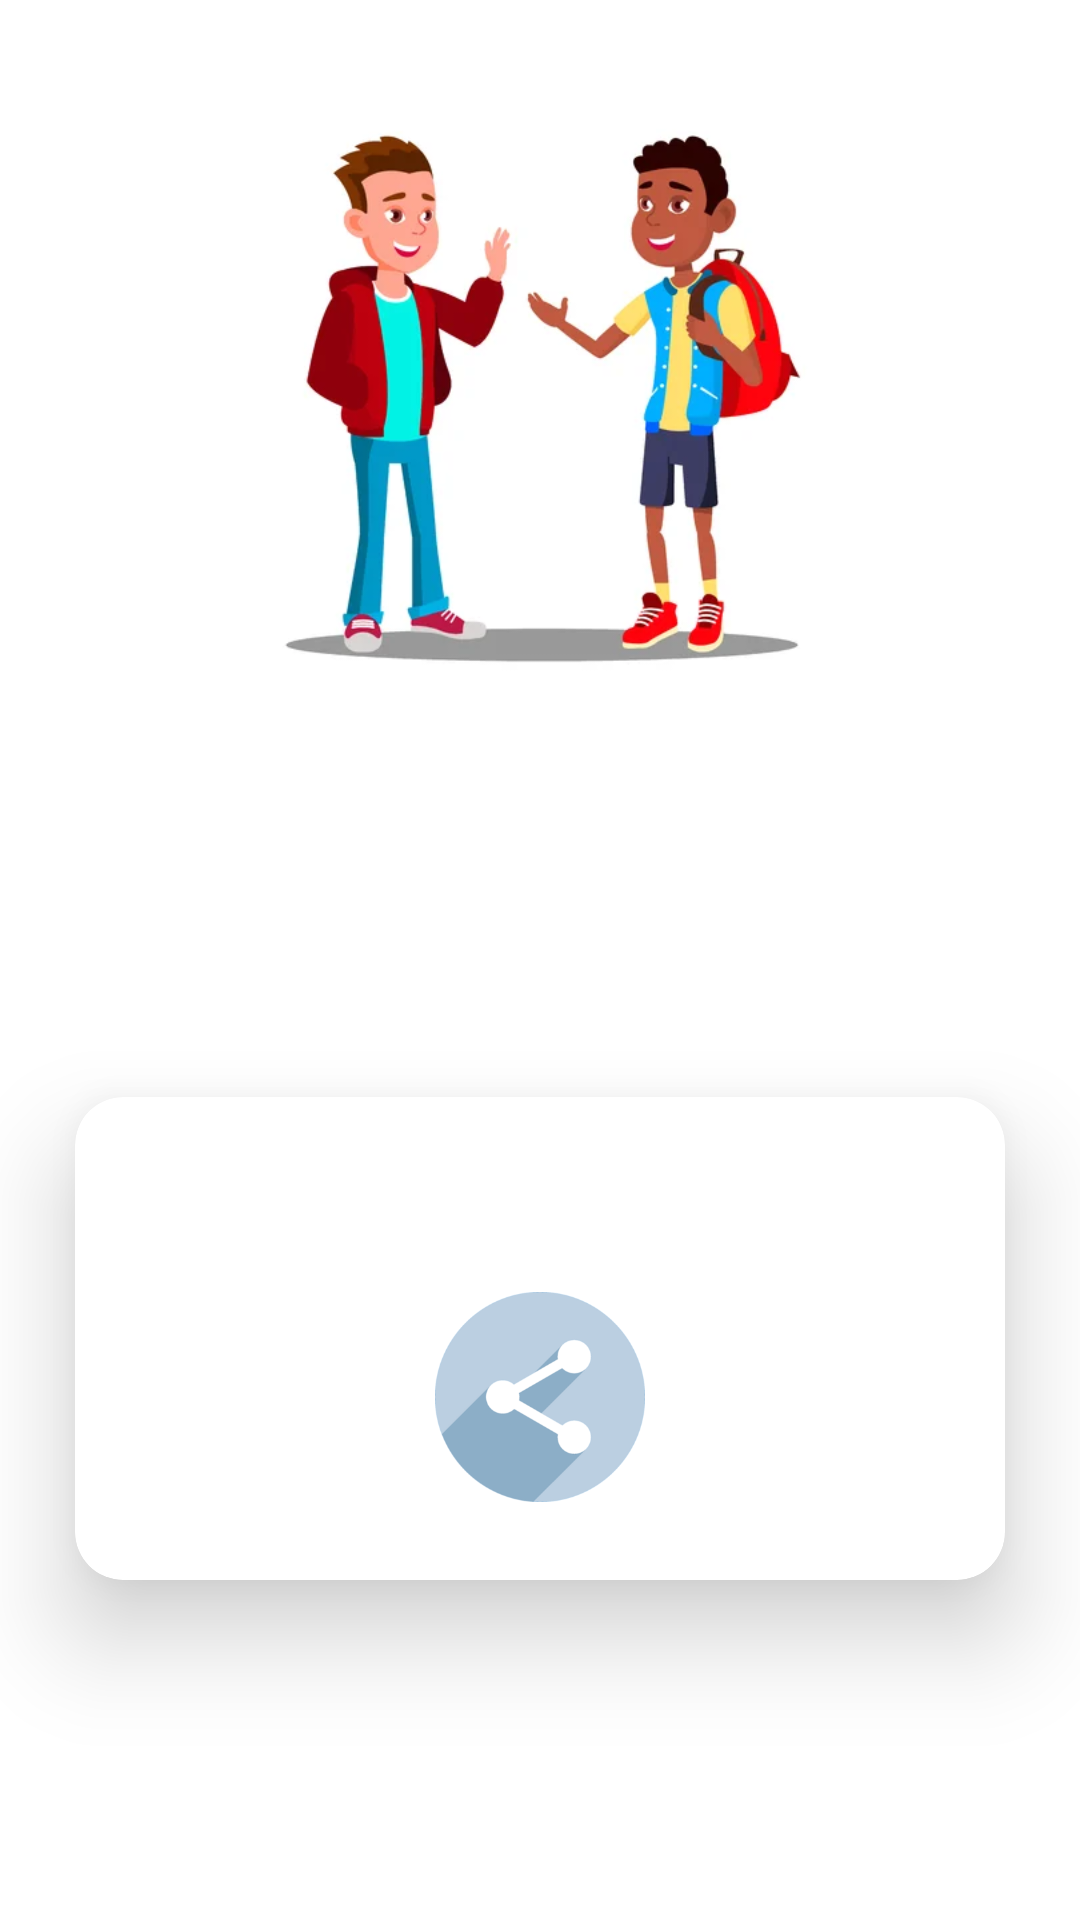

Icon click points for this 1080 x 1920 phone screenshot, format point (x, y):
share: point (540, 1397)
